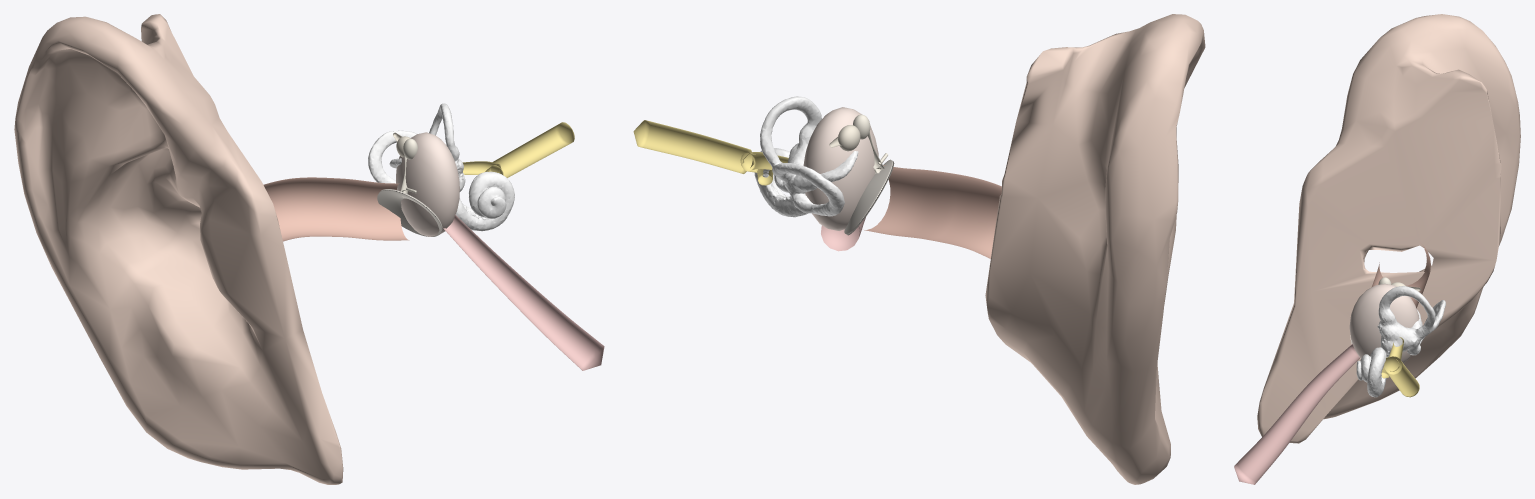
The model's file is ear.glb.
The picture shows the model from 3 angles, left to right: view 1: azimuth 30°, elevation 25°; view 2: azimuth 150°, elevation 25°; view 3: azimuth 270°, elevation 25°; orthographic projection. The views are drawn at different scales.
Parts seen in each view (by area): view 1: pinna, ear_canal, eustachian_tube, middle_ear, cochlea, auditory_nerve, semicircular_canals, eardrum; view 2: pinna, ear_canal, middle_ear, semicircular_canals, auditory_nerve, cochlea, eardrum, eustachian_tube; view 3: pinna, eustachian_tube, middle_ear, semicircular_canals, cochlea, auditory_nerve, vestibule, ear_canal.
Boxes of the visible parts, x1,y1,x2,y2 form: pinna: [14, 14, 343, 484]; ear_canal: [263, 177, 409, 241]; eustachian_tube: [443, 214, 604, 370]; middle_ear: [396, 132, 459, 236]; cochlea: [455, 166, 514, 231]; auditory_nerve: [462, 122, 574, 177]; semicircular_canals: [368, 103, 463, 183]; eardrum: [377, 189, 442, 236]; pinna: [985, 14, 1205, 484]; ear_canal: [862, 165, 1001, 258]; middle_ear: [803, 107, 878, 230]; semicircular_canals: [760, 96, 858, 216]; auditory_nerve: [633, 120, 788, 185]; cochlea: [754, 148, 807, 217]; eardrum: [844, 159, 894, 235]; eustachian_tube: [821, 217, 865, 251]; pinna: [1257, 14, 1520, 443]; eustachian_tube: [1234, 344, 1360, 484]; middle_ear: [1349, 283, 1419, 363]; semicircular_canals: [1377, 286, 1445, 355]; cochlea: [1356, 334, 1391, 397]; auditory_nerve: [1381, 337, 1419, 397]; vestibule: [1380, 322, 1417, 355]; ear_canal: [1372, 241, 1430, 308].
Bounding box in the file's own units: 0.0703 × 0.0568 × 0.0405.
